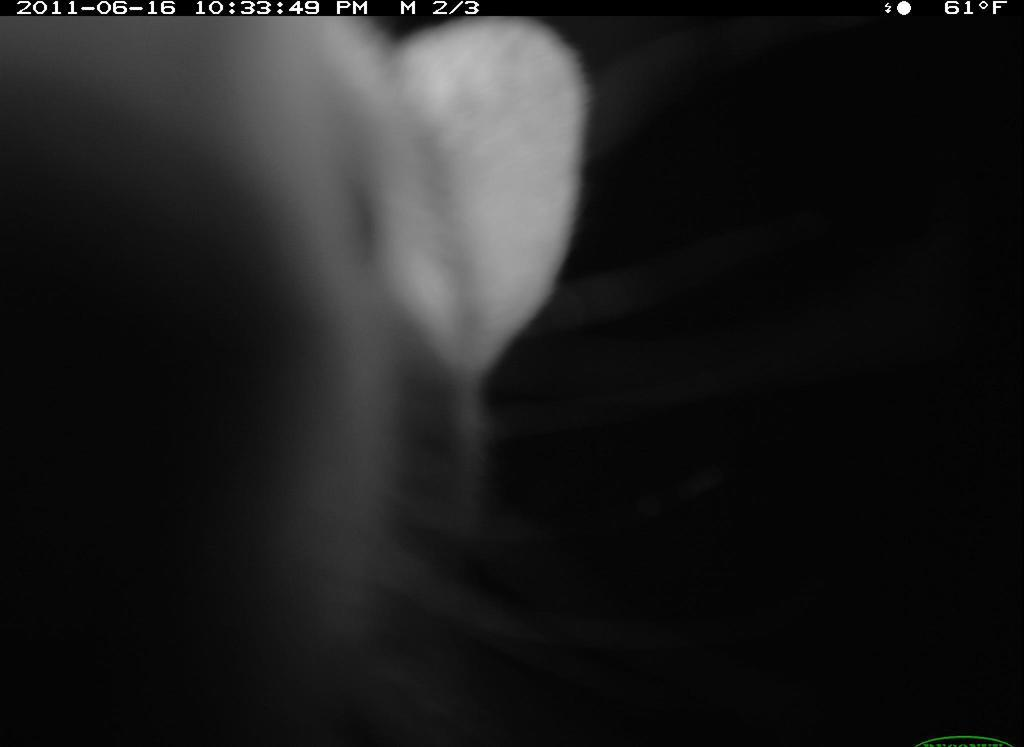raccoon: (5, 4, 625, 747)
